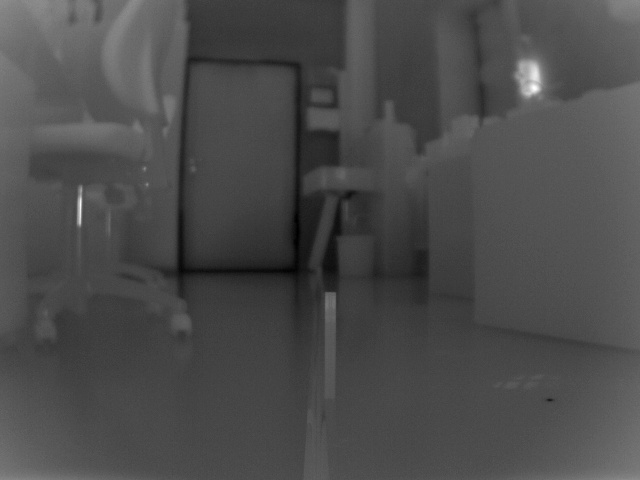aluminum profile: (323, 291, 337, 403)
